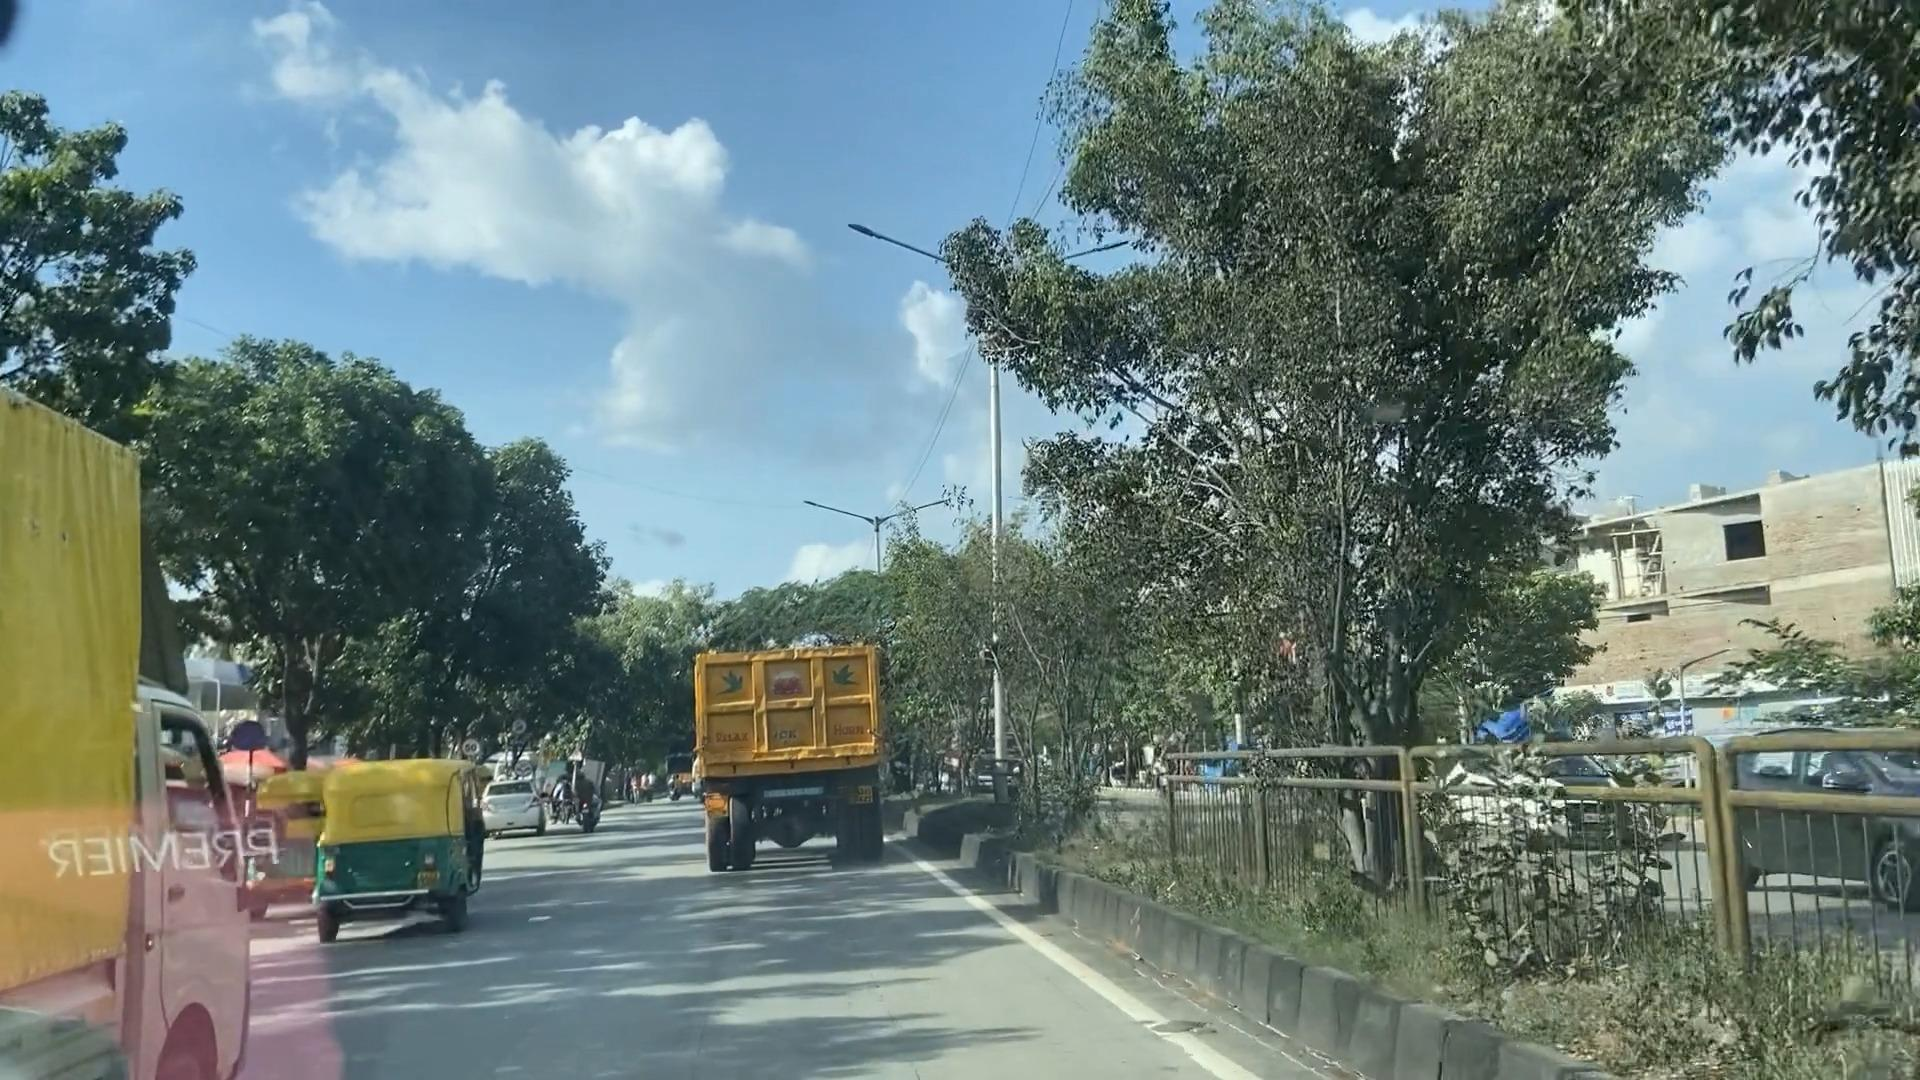HMV: (0, 401, 281, 1080), (663, 650, 889, 876)
LMV: (338, 744, 480, 913)
